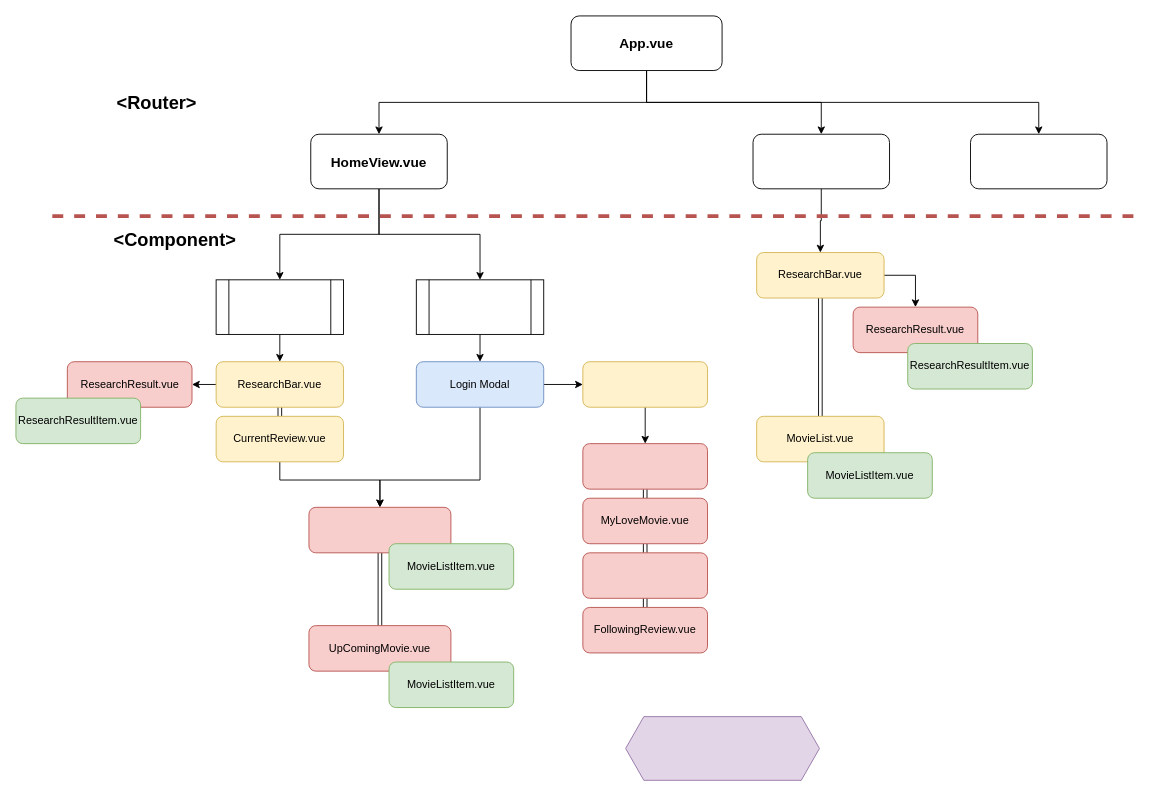
The diagram is 1163 pixels wide and 796 high, and some of its shapes have lost their labels. The box of each missing label's shape, as (x1, y1, x2, y2) in pixels:
CurrentMovie.vue: (308, 506, 451, 553)
GameView.vue: (970, 133, 1107, 189)
LogInOO.vue: (215, 279, 344, 334)
LogInXX.vue: (415, 279, 544, 334)
MovieDetail.vue: (625, 716, 819, 780)
MovieView.vue: (752, 133, 890, 189)
MyPage.vue: (582, 361, 708, 407)
MyReview.vue: (582, 552, 708, 598)
Profile.vue: (582, 443, 708, 489)
